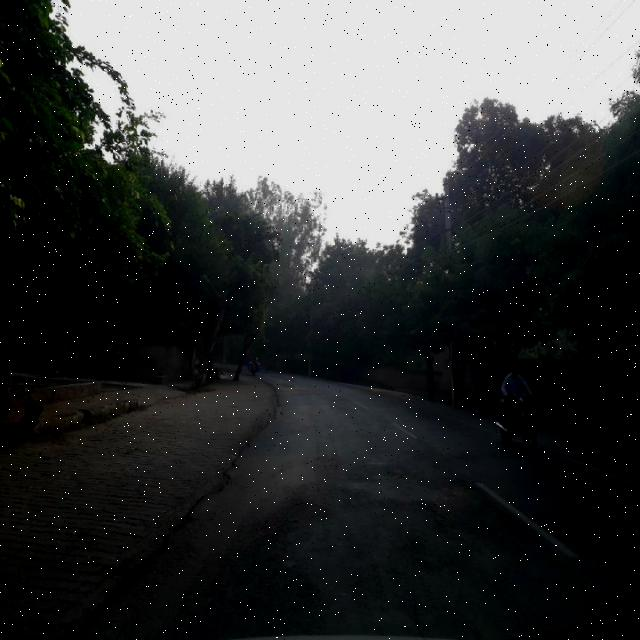D00: (75, 540, 169, 638), (169, 435, 262, 533)
